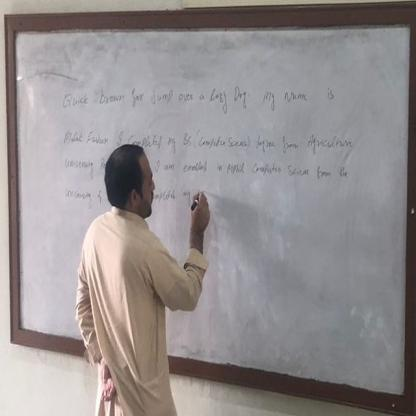Handwritten text: (60, 122, 361, 159), (58, 81, 345, 116), (151, 156, 359, 179), (61, 185, 97, 213), (59, 155, 99, 179)
Lecturer: (74, 140, 208, 396)
Whiteboard: (5, 9, 414, 406)
